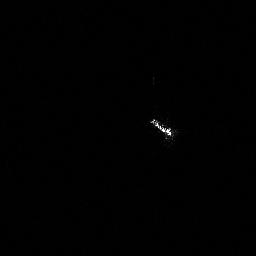ship: (147, 115, 180, 142)
